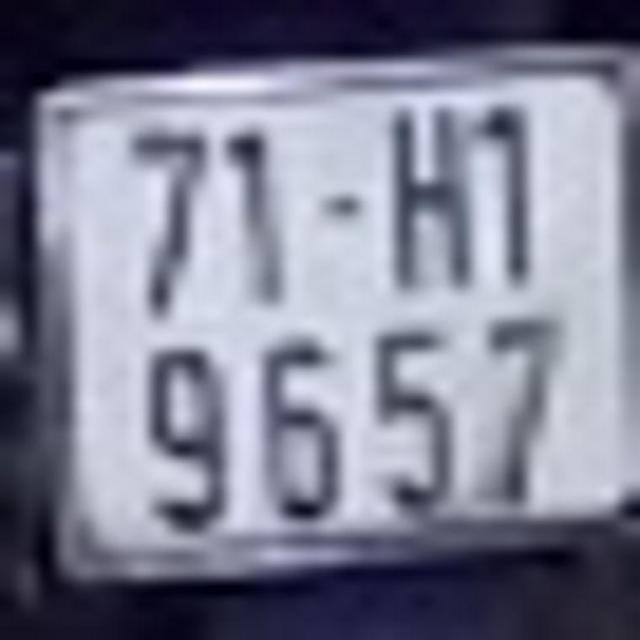1: (218, 120, 295, 313), (480, 96, 548, 283)
5: (372, 317, 461, 514)
6: (260, 328, 344, 530)
7: (481, 307, 562, 512), (132, 119, 206, 316)
9: (145, 339, 231, 535)
H: (388, 102, 472, 294)
